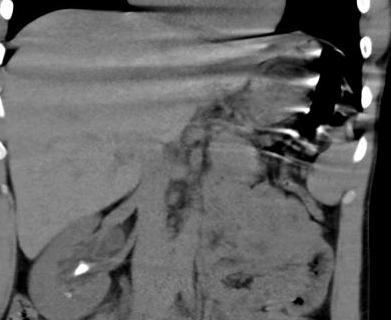Tas_Var: (72, 259, 92, 277), (63, 291, 73, 299)
